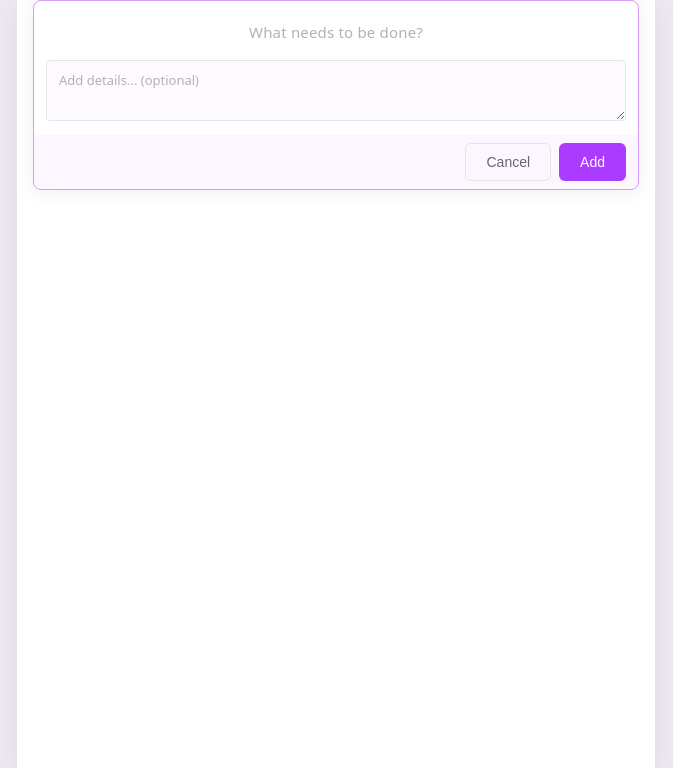
Test: AddTodoCard › when expandOnFocus is false (always expanded) › empty submission › shows inline validation and preserves input for empty title
What coordinates should you click on to do the following:
click the button "Add"
I would click on:
 (593, 162)
Its box is [559, 143, 626, 181].
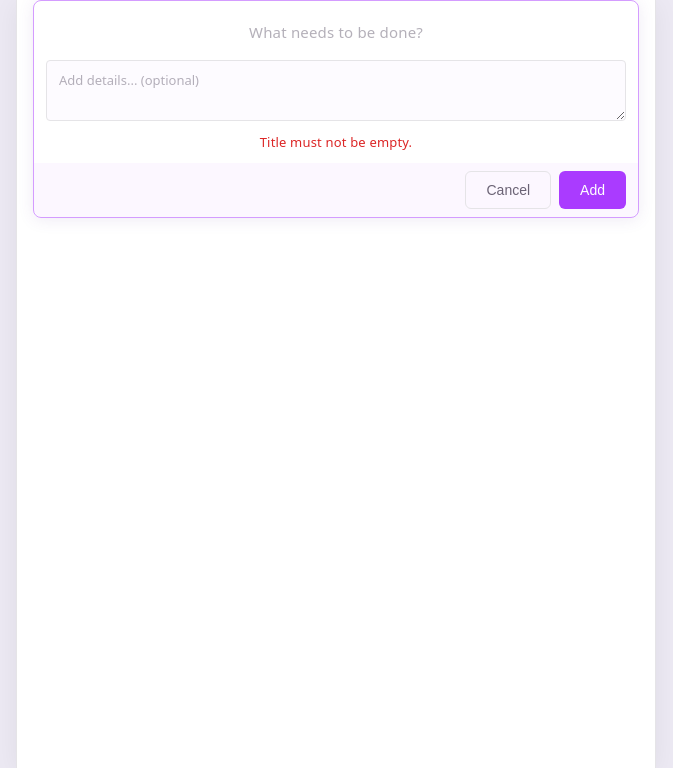
Result: the text "Title must not be empty." is shown at [260, 133, 412, 151]
